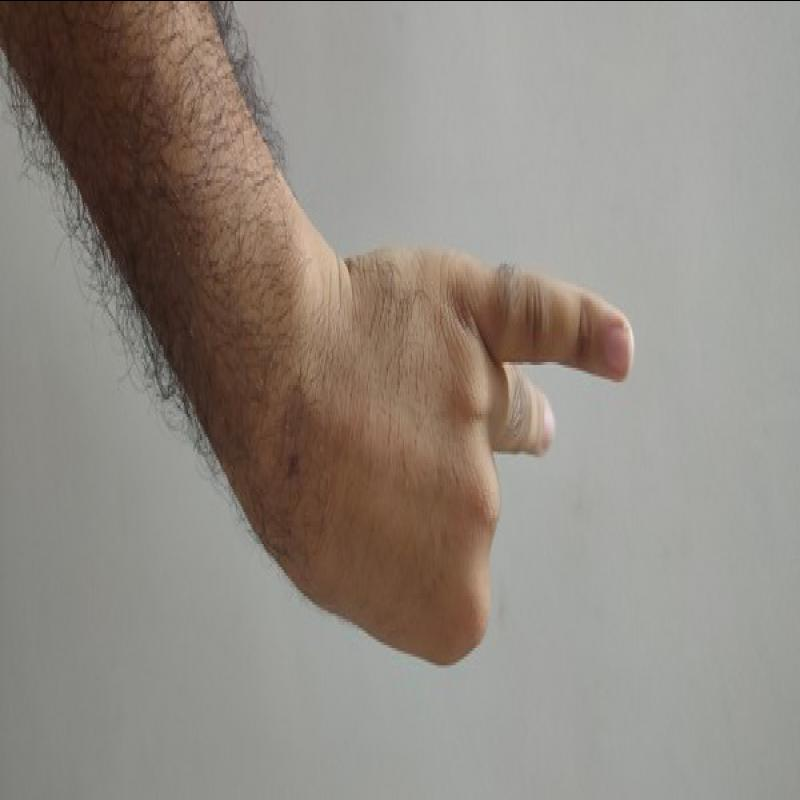Katakam: (288, 203, 650, 686)
